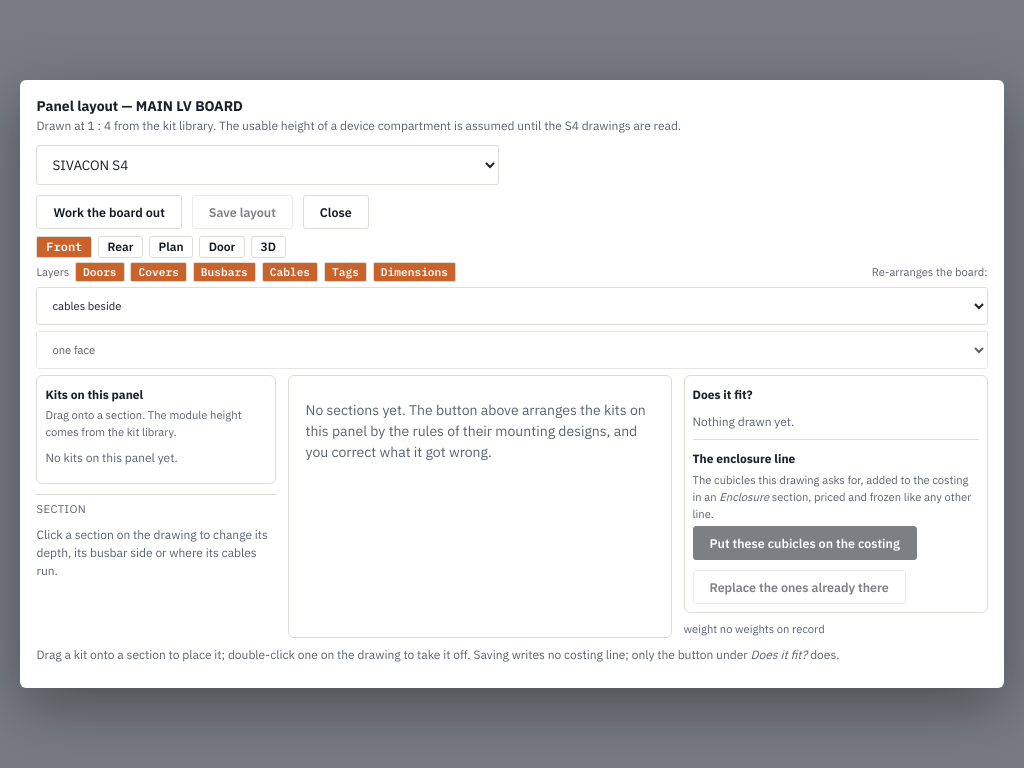
it: the other four views › looks down on the selected section, with its real depth
Click the button "Work the board out" at (109, 212), box [36,195,182,229]
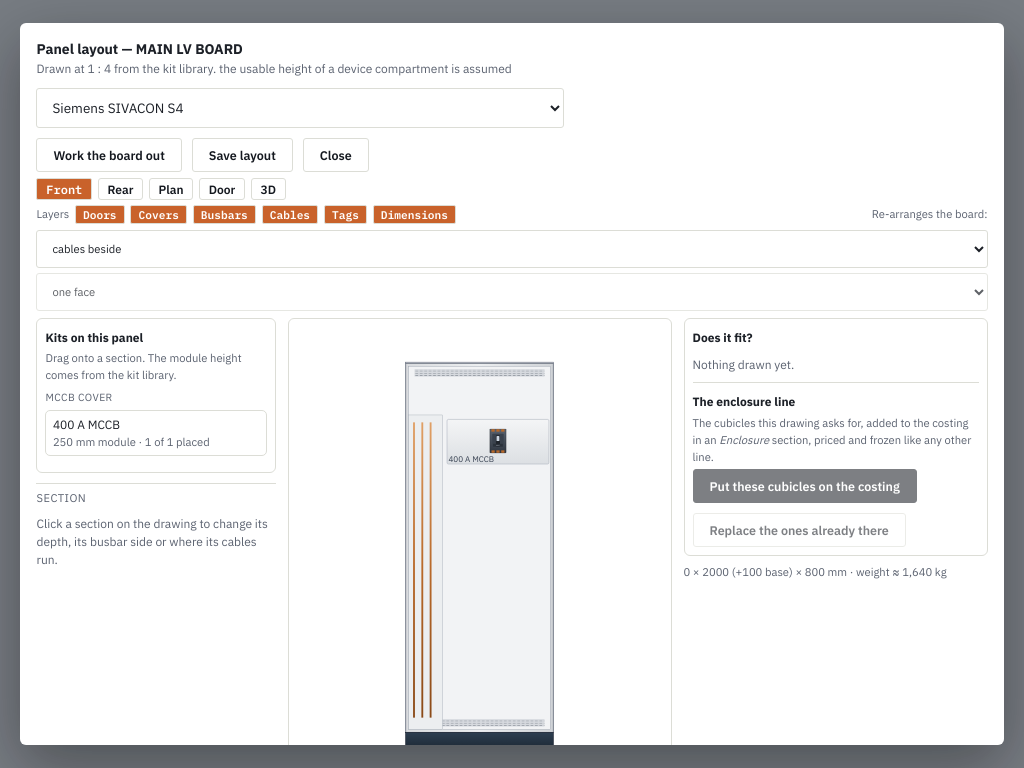
Check: the picture named "Front view" is shown, box [290,319,670,745]
Click the button "Plan" at (171, 189), box [149,178,193,200]
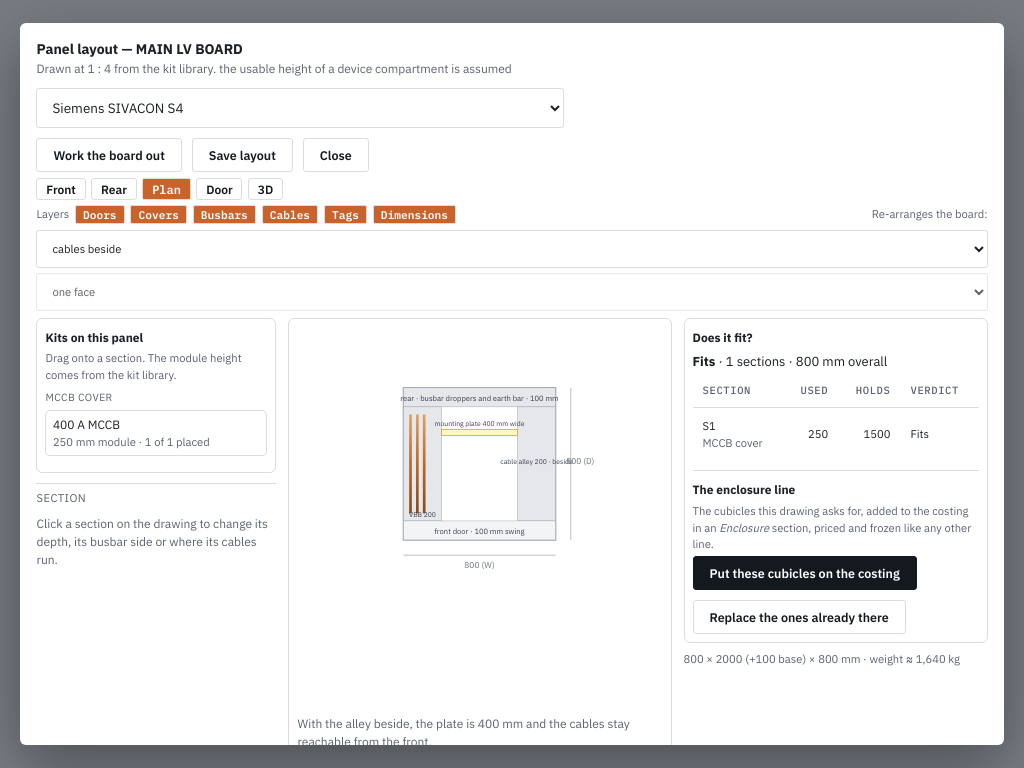
Check: the text "mounting plate 400 mm wide" is shown, box [435,419,525,428]
Check: the picture named "Plan view of section S1, 800 by 800 mm" is shown, box [298,327,662,707]
